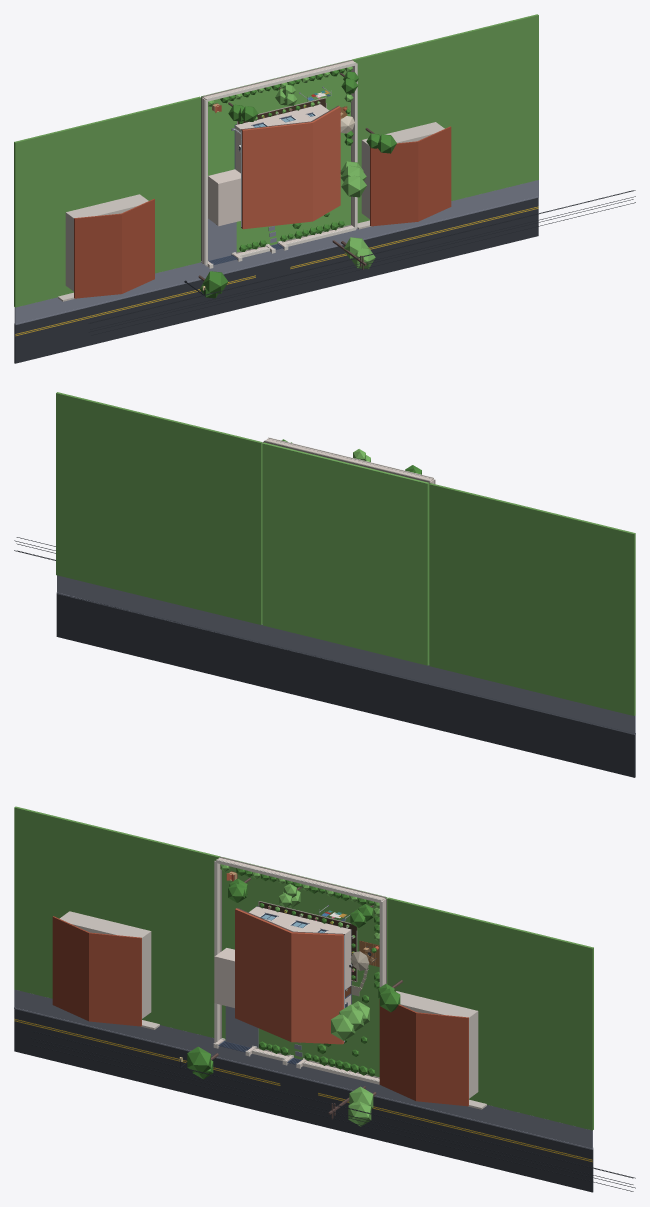
File: DC_Casa.fbx
The picture shows the model from 3 angles, top to bottom: view 1: azimuth 30°, elevation 25°; view 2: azimuth 150°, elevation 25°; view 3: azimuth 330°, elevation 25°; orthographic projection. The views are drawn at different scales.
Visible parts, largest first — view 1: DC_CASA_LoteVizinhoEsq, DC_CASA_LoteVizinhoDir, DC_CASA_Rua, DC_CASA_Telhado, DC_CASA_VizinhoTelhado_0, DC_CASA_VizinhoTelhado_1, DC_CASA_Calcada, DC_CASA_Grama, DC_CASA_PosteRede, DC_CASA_Vizinho_0, DC_CASA_GaragemPortico, DC_CASA_Vizinho_1 (+10 smaller); view 2: DC_CASA_LoteVizinhoDir, DC_CASA_LoteVizinhoEsq, DC_CASA_Grama, DC_CASA_Rua, DC_CASA_Calcada, DC_CASA_MuroFundo, DC_CASA_MeioFio; view 3: DC_CASA_LoteVizinhoDir, DC_CASA_LoteVizinhoEsq, DC_CASA_Rua, DC_CASA_Telhado, DC_CASA_VizinhoTelhado_0, DC_CASA_VizinhoTelhado_1, DC_CASA_Calcada, DC_CASA_Grama, DC_CASA_PosteRede, DC_CASA_Vizinho_0, DC_CASA_Vizinho_1, DC_CASA_MuroFundo (+10 smaller).
Part boxes in pixels (box(x1,y1,x2,y2)): DC_CASA_LoteVizinhoEsq: box(14, 96, 200, 307); DC_CASA_LoteVizinhoDir: box(352, 14, 538, 223); DC_CASA_Rua: box(14, 197, 538, 363); DC_CASA_Telhado: box(242, 106, 340, 229); DC_CASA_VizinhoTelhado_0: box(74, 198, 154, 298); DC_CASA_VizinhoTelhado_1: box(370, 126, 451, 226); DC_CASA_Calcada: box(14, 180, 538, 323); DC_CASA_Grama: box(201, 60, 350, 260); DC_CASA_PosteRede: box(88, 190, 635, 335); DC_CASA_Vizinho_0: box(65, 194, 148, 291); DC_CASA_GaragemPortico: box(208, 176, 240, 226); DC_CASA_Vizinho_1: box(361, 122, 444, 218); DC_CASA_LoteVizinhoDir: box(56, 392, 262, 624); DC_CASA_LoteVizinhoEsq: box(429, 483, 635, 715); DC_CASA_Grama: box(262, 442, 429, 665); DC_CASA_Rua: box(56, 593, 635, 777); DC_CASA_Calcada: box(57, 575, 635, 733); DC_CASA_MuroFundo: box(264, 437, 433, 482); DC_CASA_MeioFio: box(56, 592, 635, 734); DC_CASA_LoteVizinhoDir: box(387, 897, 593, 1130); DC_CASA_LoteVizinhoEsq: box(14, 806, 220, 1037); DC_CASA_Rua: box(14, 1009, 593, 1192); DC_CASA_Telhado: box(235, 908, 343, 1044); DC_CASA_VizinhoTelhado_0: box(52, 916, 141, 1026); DC_CASA_VizinhoTelhado_1: box(379, 999, 468, 1106); DC_CASA_Calcada: box(14, 989, 592, 1148); DC_CASA_Grama: box(222, 857, 387, 1077); DC_CASA_PosteRede: box(31, 1031, 635, 1191); DC_CASA_Vizinho_0: box(59, 911, 151, 1018); DC_CASA_Vizinho_1: box(396, 991, 478, 1098); DC_CASA_MuroFundo: box(216, 856, 385, 902).
Bounding box in the file's own units: 75.8 × 27.41 × 7.53.
